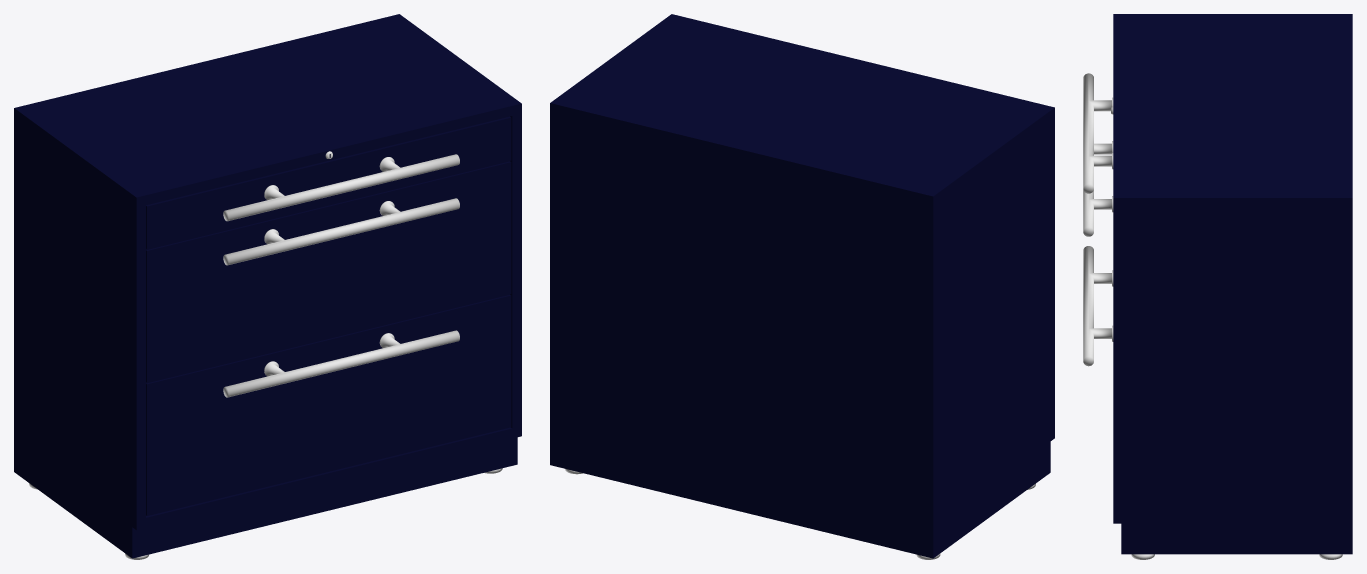
Rendered from drawer3Base40Lux.glb.
3 renders of one model, left to right at view 1: azimuth 30°, elevation 25°; view 2: azimuth 150°, elevation 25°; view 3: azimuth 270°, elevation 25°, orthographic. The views are drawn at different scales.
Visible parts, largest first — view 1: baseDrawerShell, drawers, handles; view 2: baseDrawerShell; view 3: baseDrawerShell, handles.
Part boxes in pixels (left/top/right/bottom): baseDrawerShell: left=14, top=14, right=521, bottom=558; drawers: left=146, top=116, right=511, bottom=515; handles: left=223, top=154, right=459, bottom=397; baseDrawerShell: left=550, top=14, right=1054, bottom=558; baseDrawerShell: left=1113, top=14, right=1352, bottom=554; handles: left=1083, top=73, right=1113, bottom=366.
Bounding box in the file's own units: 1.02 × 0.9382 × 0.6287.
